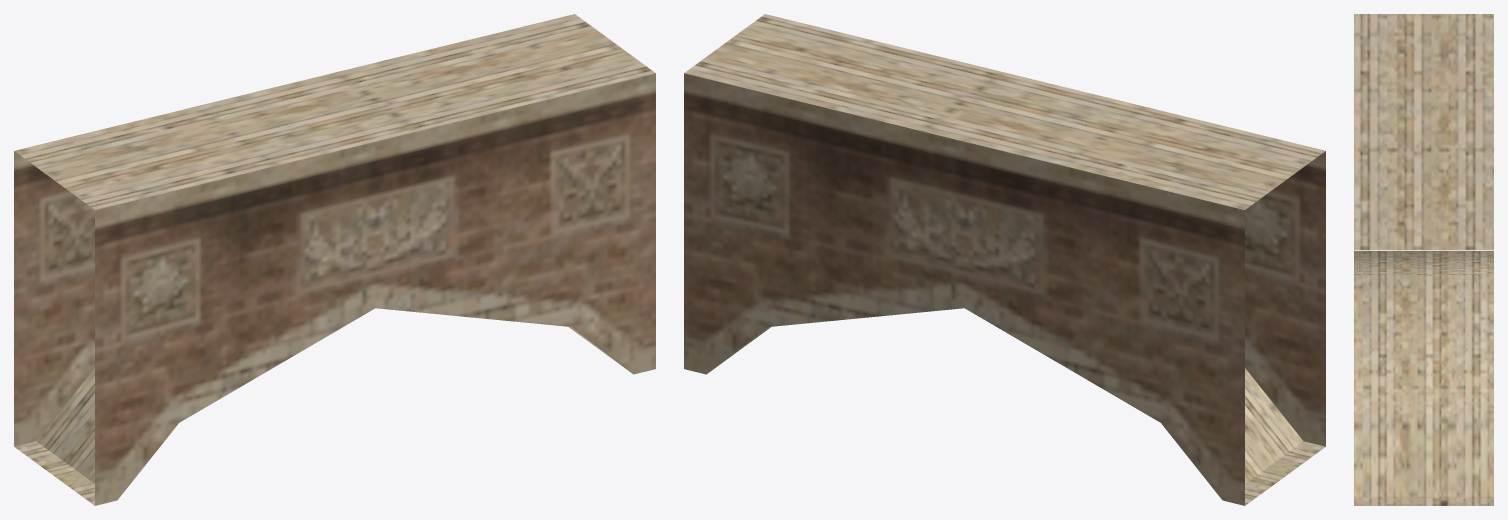
File: thm_nboo_imprv_archway_narrow_s01_l3.fbx
The picture shows the model from 3 angles, left to right: view 1: azimuth 30°, elevation 25°; view 2: azimuth 150°, elevation 25°; view 3: azimuth 270°, elevation 25°; orthographic projection. The views are drawn at different scales.
Visible parts, largest first — view 1: mesh_node; view 2: mesh_node; view 3: mesh_node.
Boxes of the visible parts, <box> form: mesh_node: <box>14,14,655,505</box>; mesh_node: <box>684,14,1325,505</box>; mesh_node: <box>1354,14,1493,505</box>.
Bounding box in the file's own units: 4 × 2.02 × 1.
